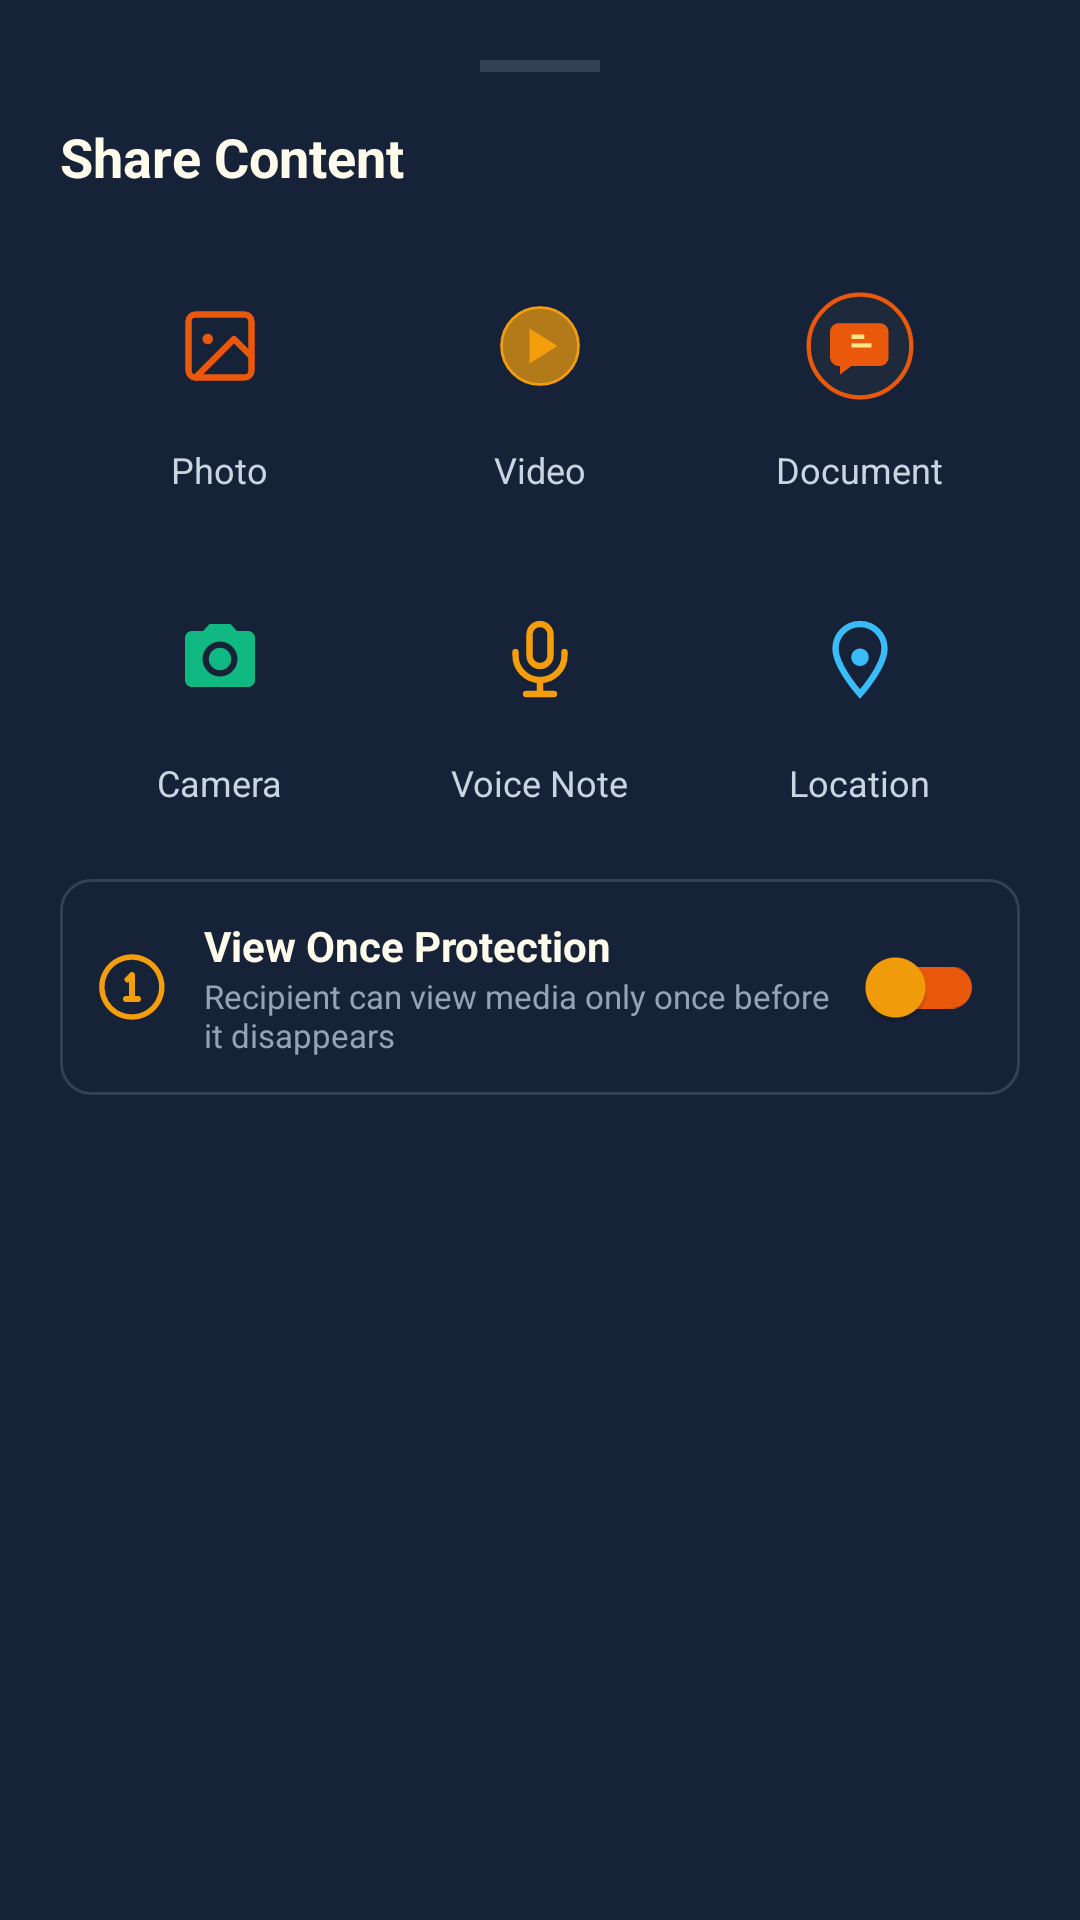

Where to tap for icons on this 1080x1920 app screen, as (x=x, y=y):
attach gallery: (x=220, y=346)
attach mic: (x=540, y=659)
